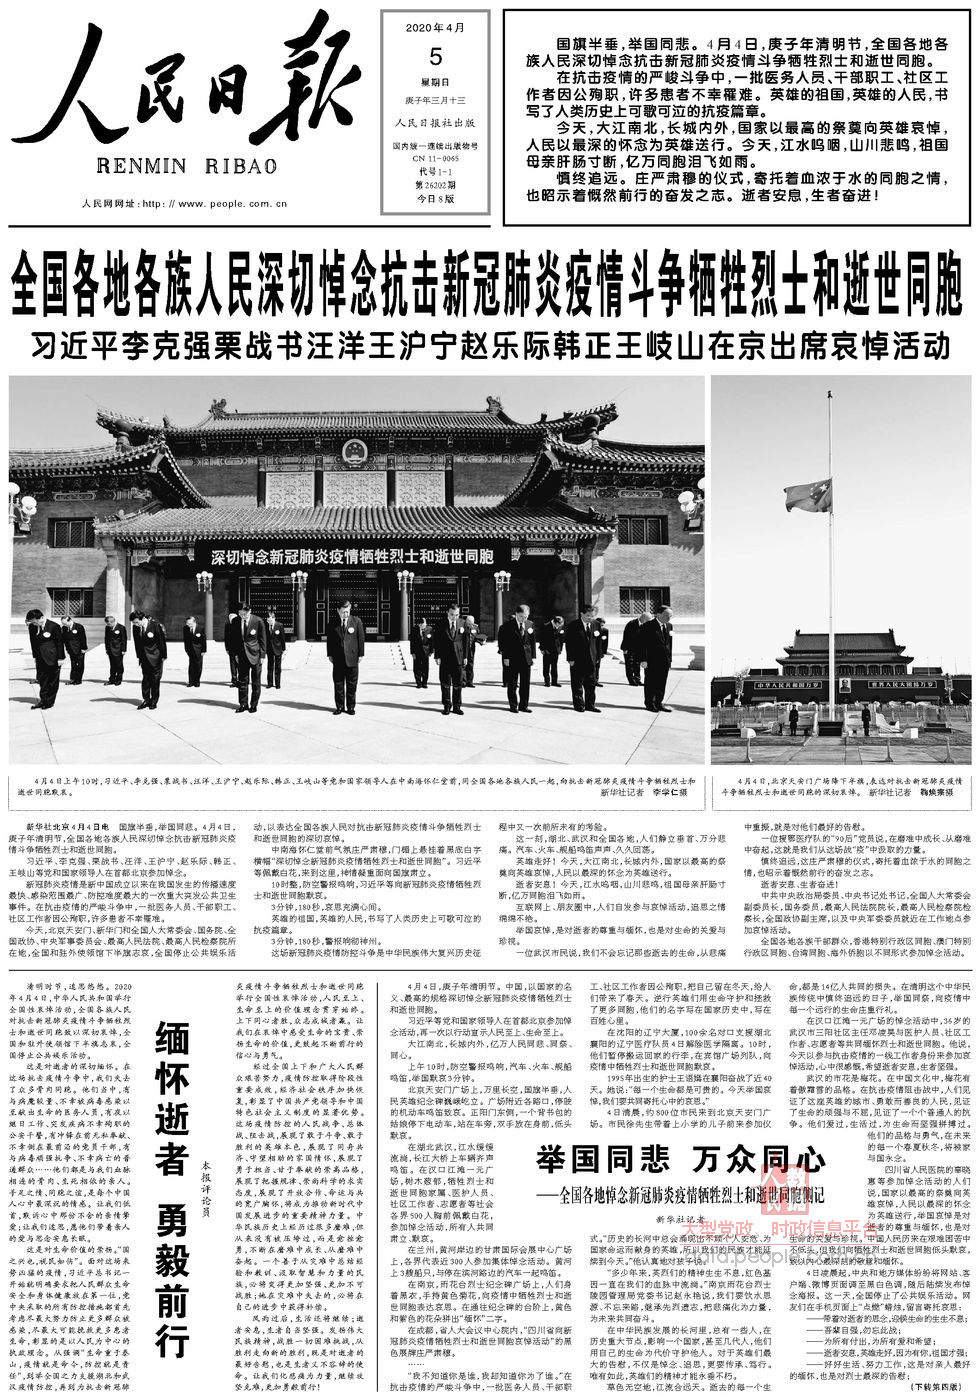pic: (5, 370, 705, 770), (708, 367, 977, 770)
